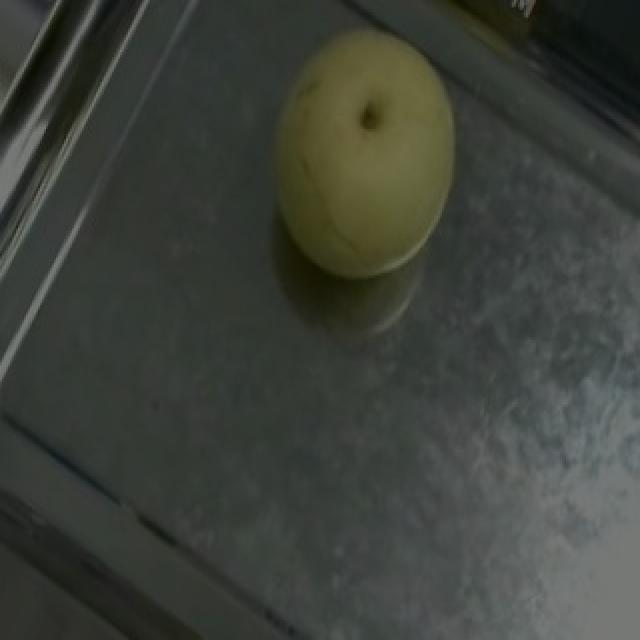Fruit: (220, 0, 502, 318)
